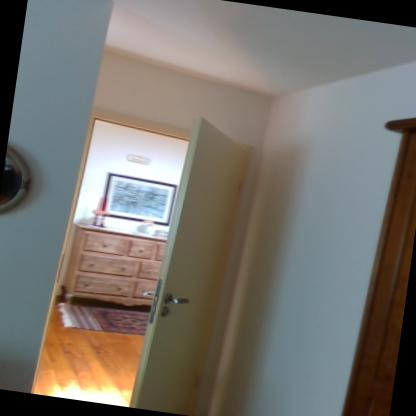semi: (37, 94, 273, 415)
